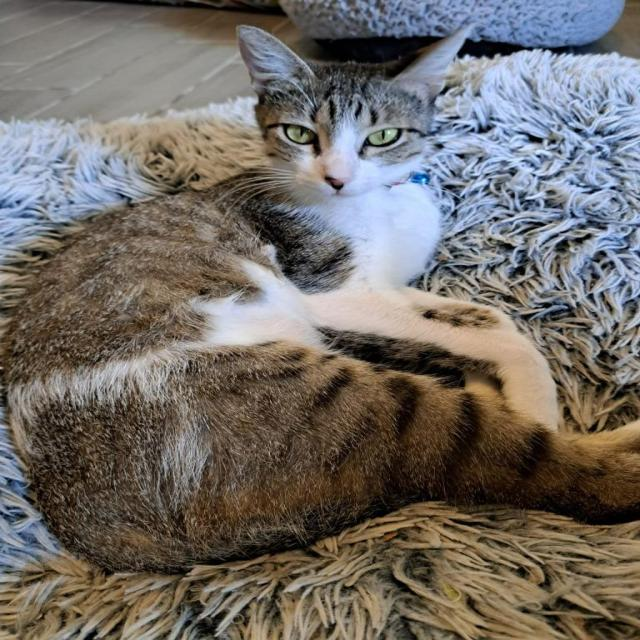american_shorthair_cat: (232, 19, 482, 207)
